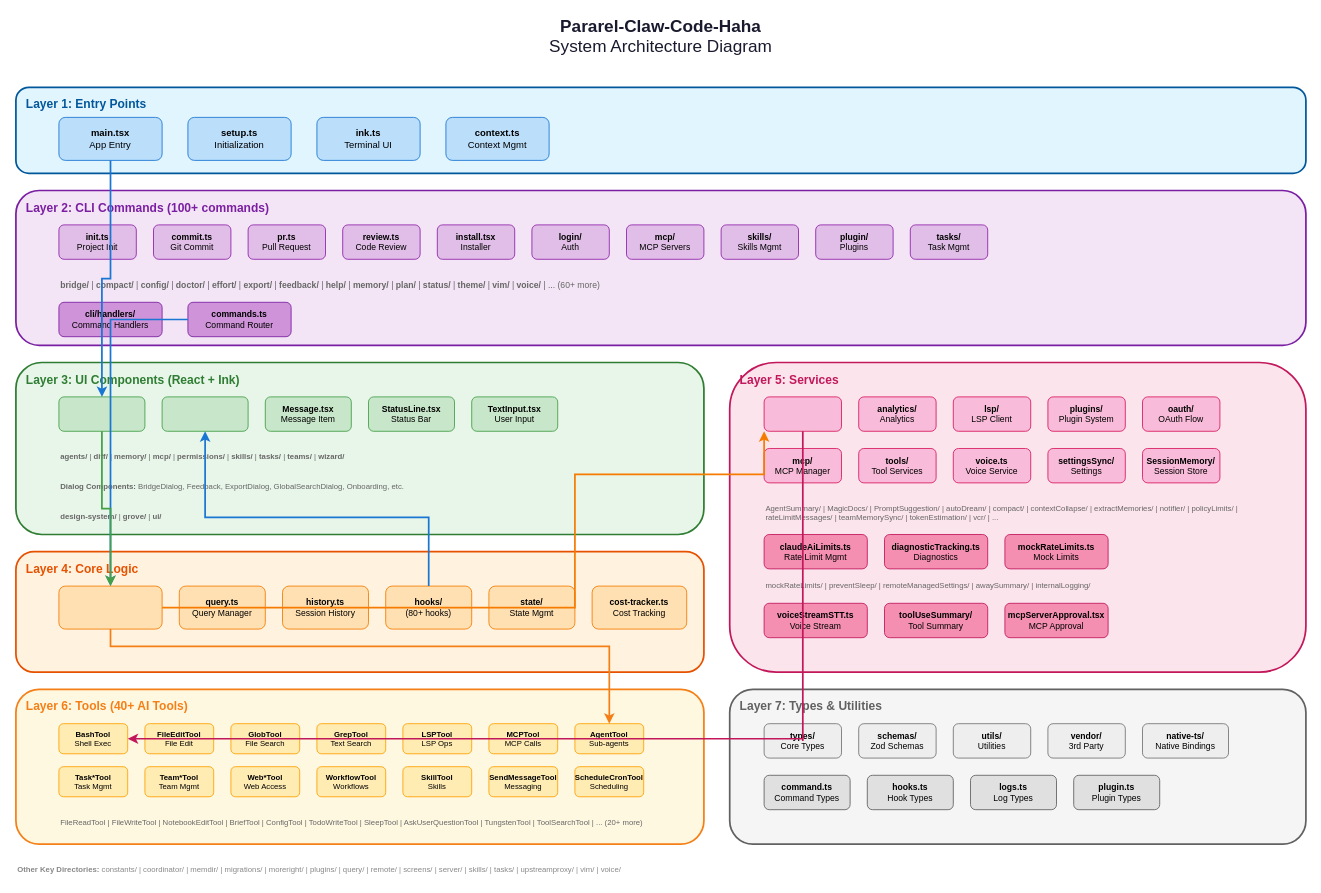
The diagram is 1321 pixels wide and 893 high, and some of its shapes have lost their labels. Here are the shapes that lost their labels. From the top down, the box of each, then its label:
(58, 396, 145, 431): App.tsx Root Component
(161, 396, 248, 431): Messages.tsx Message List
(763, 396, 842, 431): api/ API Client
(58, 585, 162, 629): QueryEngine.ts AI Query Engine
